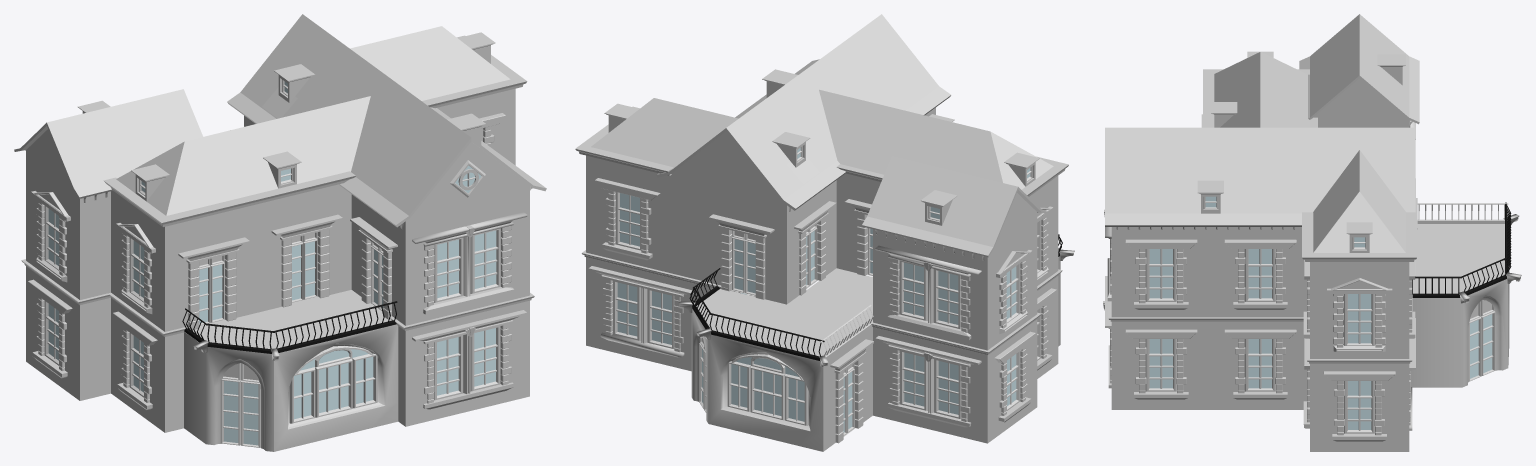
File: buildings.fbx
The picture shows the model from 3 angles, left to right: view 1: azimuth 30°, elevation 25°; view 2: azimuth 150°, elevation 25°; view 3: azimuth 270°, elevation 25°; orthographic projection. The views are drawn at different scales.
Parts seen in each view (by area): view 1: villa; view 2: villa; view 3: villa.
Boxes of the visible parts, x1,y1,x2,y2 form: villa: [14, 14, 546, 451]; villa: [575, 14, 1074, 451]; villa: [1103, 14, 1521, 451].
Size of the model in its own units: 1444 by 850 by 1267.
